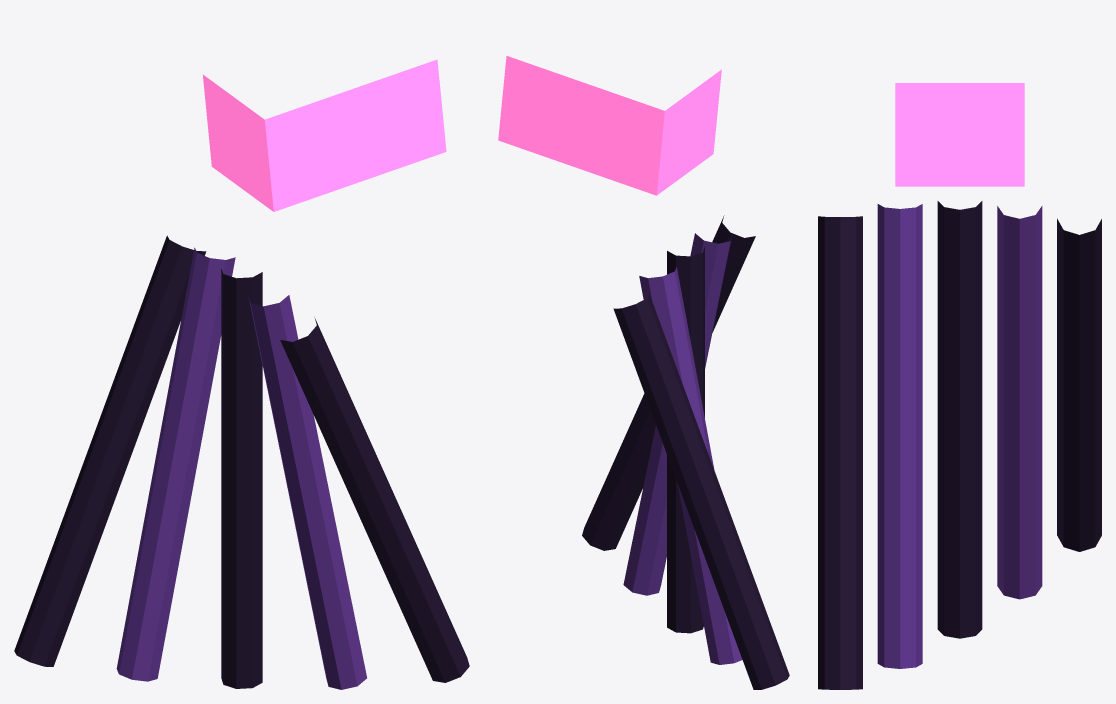
File: bane.glb
3 renders of one model, left to right at view 1: azimuth 30°, elevation 25°; view 2: azimuth 150°, elevation 25°; view 3: azimuth 270°, elevation 25°, orthographic. The views are drawn at different scales.
Visible parts, largest first — view 1: bane-nightmare-eye, bane-tentacle-0, bane-tentacle-1, bane-tentacle-2, bane-tentacle-4, bane-tentacle-3; view 2: bane-nightmare-eye, bane-tentacle-0, bane-tentacle-1, bane-tentacle-2, bane-tentacle-4, bane-tentacle-3; view 3: bane-tentacle-4, bane-tentacle-3, bane-tentacle-2, bane-tentacle-1, bane-tentacle-0, bane-nightmare-eye.
Part boxes in pixels (bbox=[...]): bane-nightmare-eye: bbox=[202, 59, 446, 211]; bane-tentacle-0: bbox=[14, 235, 206, 666]; bane-tentacle-1: bbox=[116, 247, 235, 681]; bane-tentacle-2: bbox=[221, 268, 262, 688]; bane-tentacle-4: bbox=[280, 317, 469, 682]; bane-tentacle-3: bbox=[248, 295, 366, 689]; bane-nightmare-eye: bbox=[498, 56, 721, 195]; bane-tentacle-0: bbox=[613, 294, 789, 689]; bane-tentacle-1: bbox=[639, 267, 742, 664]; bane-tentacle-2: bbox=[667, 246, 704, 633]; bane-tentacle-4: bbox=[582, 215, 755, 550]; bane-tentacle-3: bbox=[623, 233, 732, 595]; bane-tentacle-4: bbox=[818, 216, 862, 689]; bane-tentacle-3: bbox=[877, 204, 922, 668]; bane-tentacle-2: bbox=[937, 201, 982, 638]; bane-tentacle-1: bbox=[997, 206, 1042, 599]; bane-tentacle-0: bbox=[1057, 218, 1101, 551]; bane-nightmare-eye: bbox=[895, 83, 1024, 186].
Size of the model in its own units: 0.8264 by 1.4 by 0.57.
